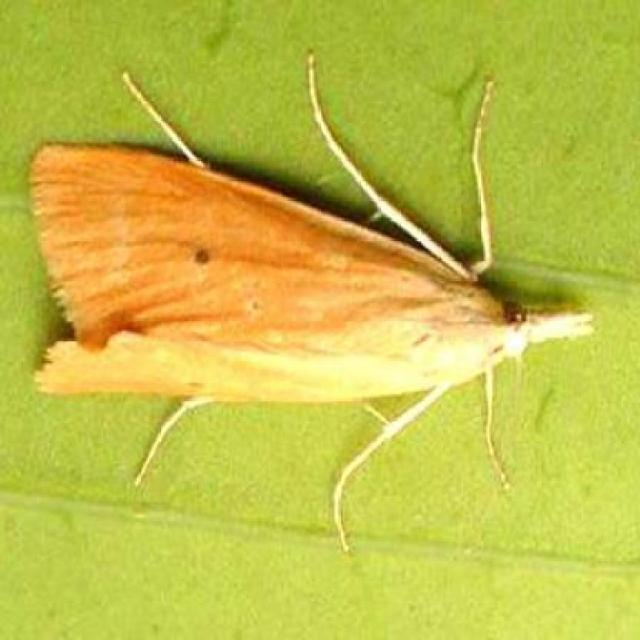stem-borer: (29, 131, 598, 463)
